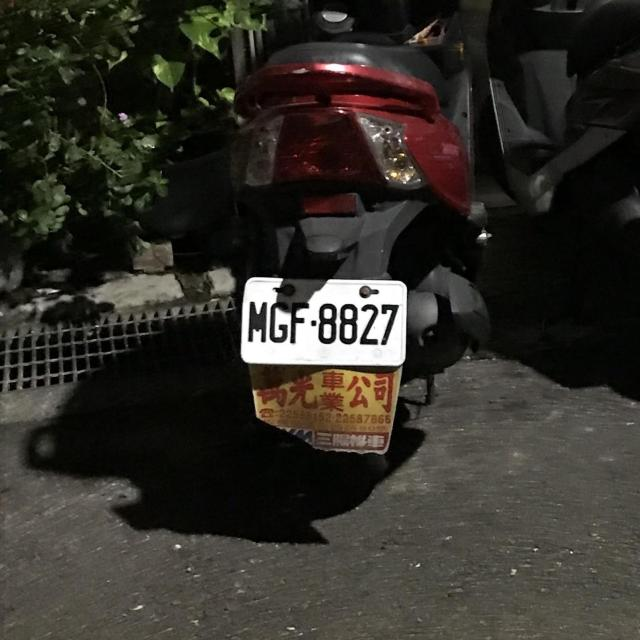W: (228, 264, 416, 379)
